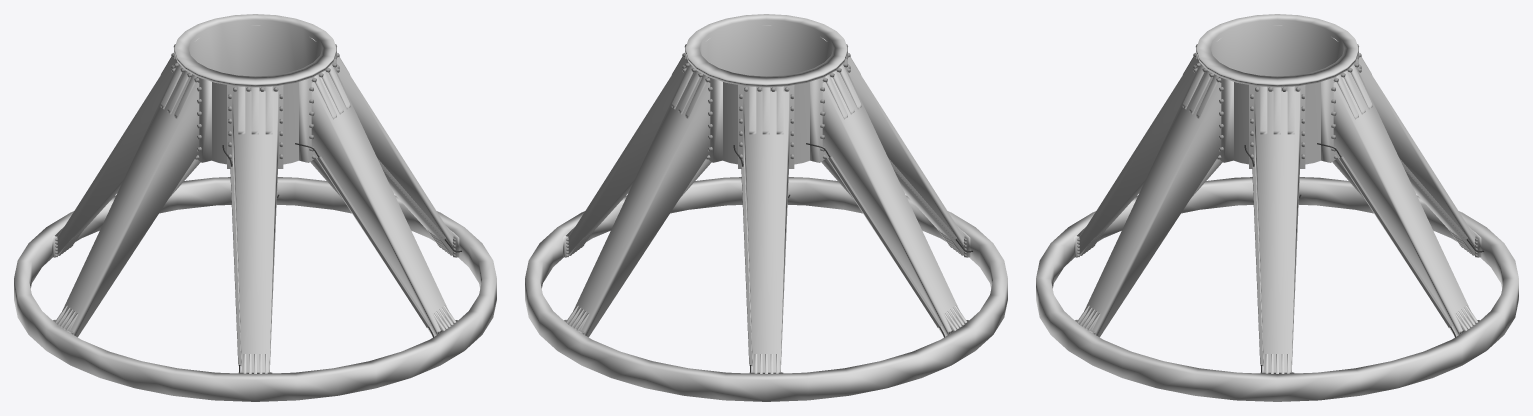
The model's file is toppletower_gondel.fbx.
3 renders of one model, left to right at view 1: azimuth 30°, elevation 25°; view 2: azimuth 150°, elevation 25°; view 3: azimuth 270°, elevation 25°, orthographic.
Parts seen in each view (by area): view 1: Mesh; view 2: Mesh; view 3: Mesh.
Part boxes in pixels (x1,y1,x2,y2): Mesh: [14, 14, 496, 401]; Mesh: [525, 14, 1007, 401]; Mesh: [1036, 14, 1518, 401].
Bounding box in the file's own units: 640 × 368 × 640.
